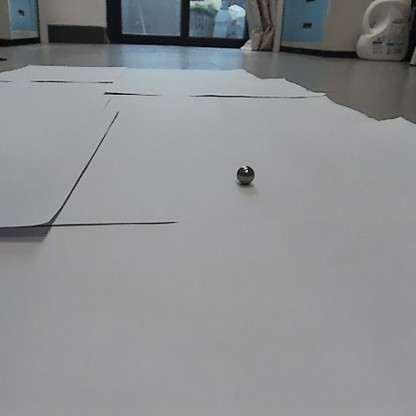ironball: (232, 160, 260, 188)
